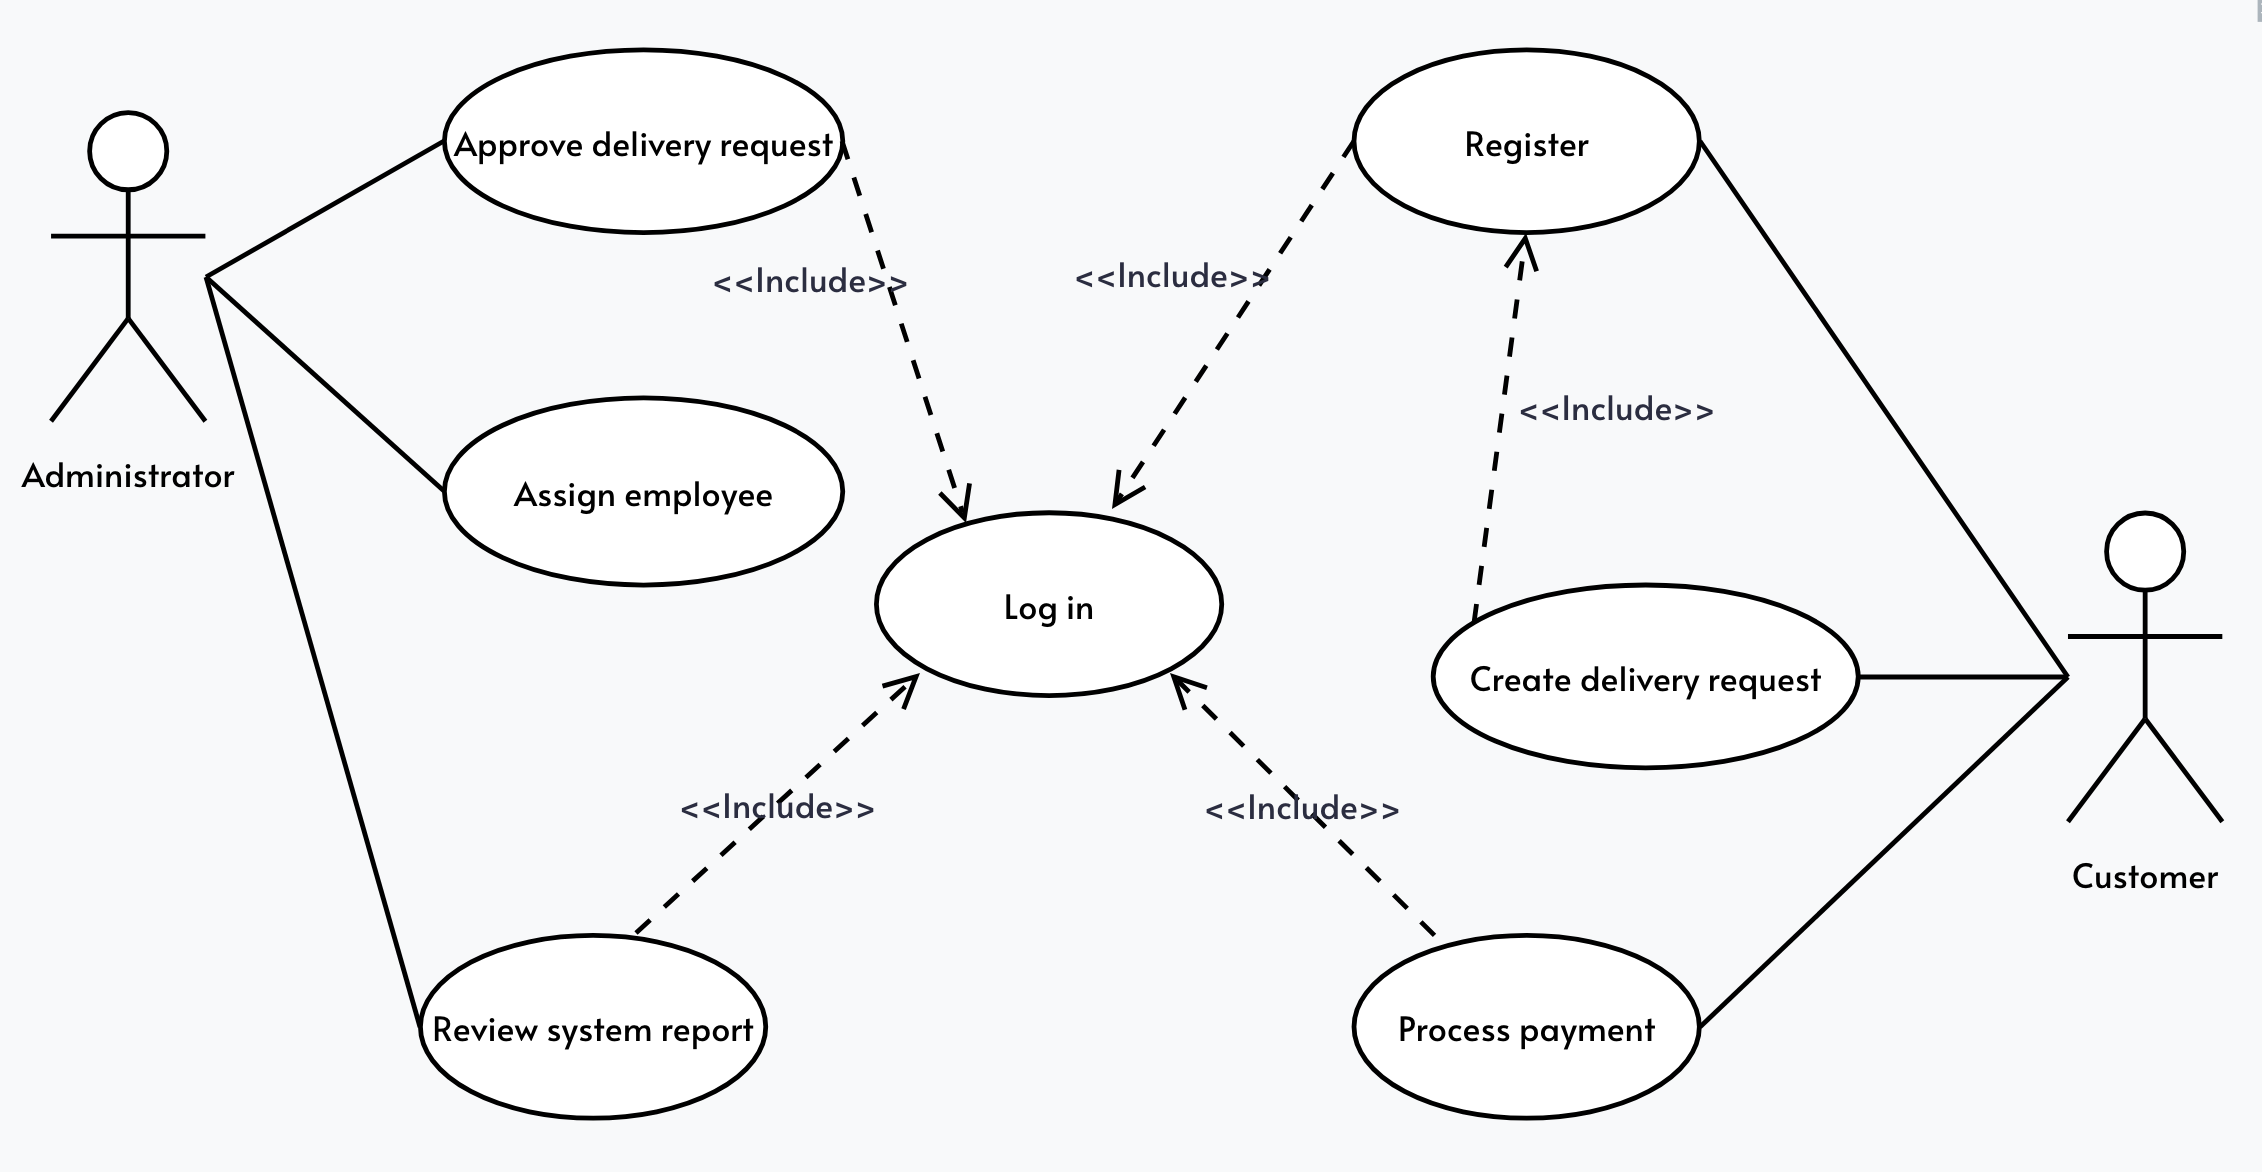actor: (2068, 507, 2226, 836), (54, 108, 209, 425)
association: (1705, 146, 2068, 676), (208, 292, 415, 1018), (1702, 683, 2068, 1027), (1101, 149, 1351, 513), (633, 673, 919, 928), (1173, 668, 1440, 939), (841, 148, 979, 520), (214, 280, 438, 489), (211, 138, 430, 283), (1457, 232, 1531, 599), (1862, 652, 2060, 698)
text: (1466, 653, 1838, 706), (454, 120, 837, 170), (427, 1002, 756, 1058), (1383, 1008, 1667, 1057), (511, 466, 781, 517), (669, 783, 887, 836), (16, 454, 238, 498), (1513, 390, 1718, 431), (1457, 118, 1605, 173), (2071, 854, 2225, 906), (1201, 791, 1401, 830), (695, 263, 911, 297), (1074, 257, 1273, 294), (991, 586, 1107, 637)
use_case: (1428, 577, 1865, 774), (438, 392, 844, 592), (436, 43, 849, 241), (1349, 928, 1705, 1127), (411, 931, 769, 1124), (871, 508, 1227, 703), (1348, 45, 1702, 238)
